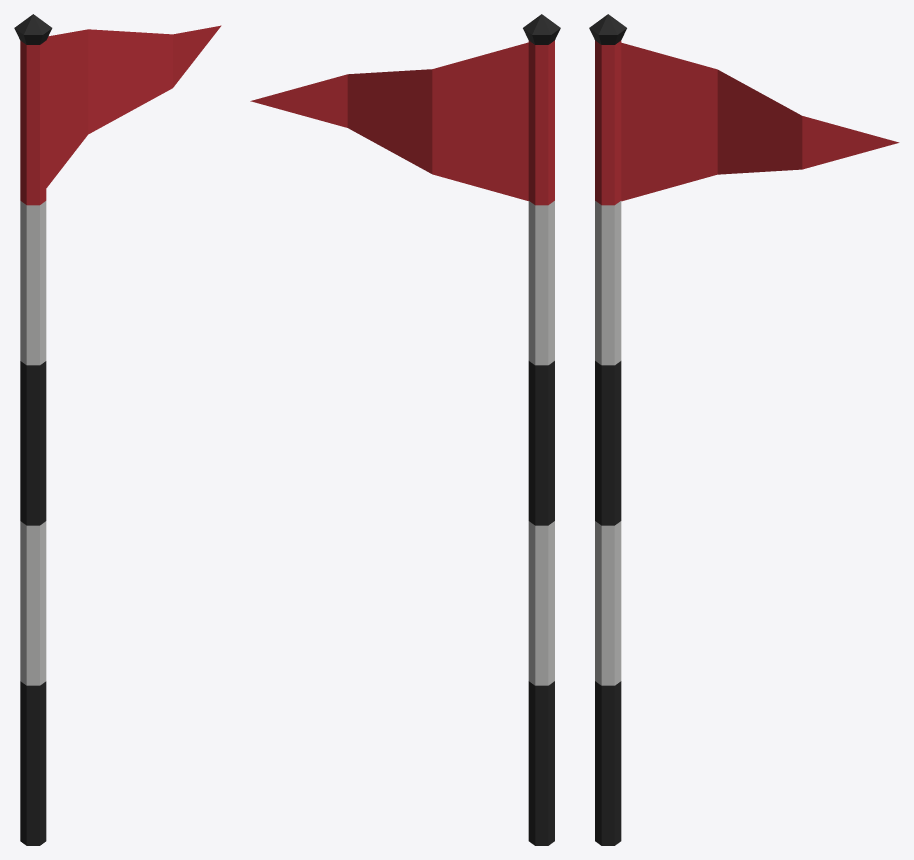
File: sport_flag-golf.fbx
The picture shows the model from 3 angles, left to right: view 1: azimuth 30°, elevation 25°; view 2: azimuth 150°, elevation 25°; view 3: azimuth 330°, elevation 25°; orthographic projection.
Visible parts, largest first — view 1: sport_flag_golf; view 2: sport_flag_golf; view 3: sport_flag_golf.
Part boxes in pixels (x1,y1,x2,y2): sport_flag_golf: (14,14,221,845); sport_flag_golf: (250,14,560,845); sport_flag_golf: (589,14,899,845).
Bounding box in the file's own units: 64.37 × 200 × 26.82.
